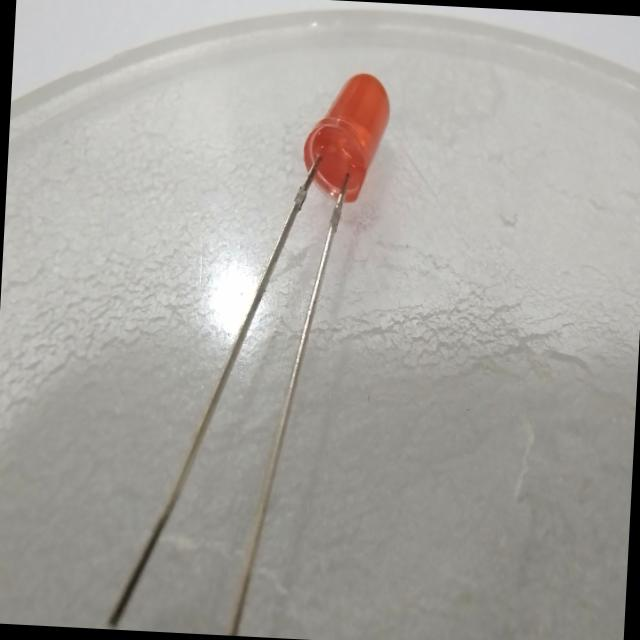red_led: (292, 62, 396, 222)
